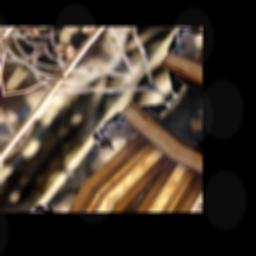Woodpecker: (88, 80, 196, 180)
